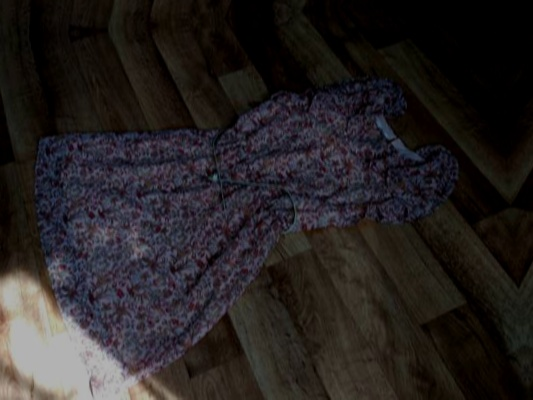Dress: (24, 58, 479, 400)
